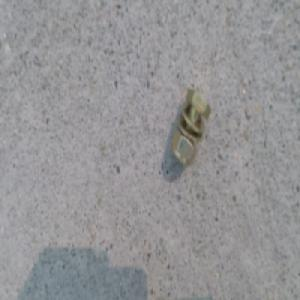BoltNutSet: (168, 91, 208, 168)
